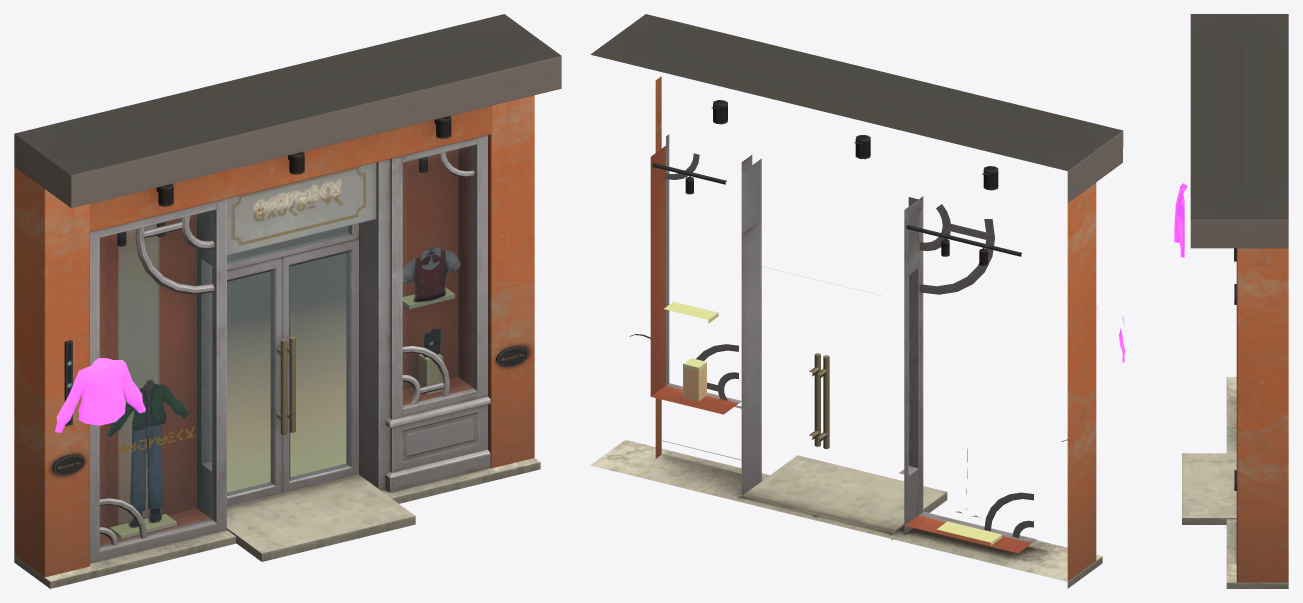
Rendered from t1_b_boutique2_d.glb.
3 renders of one model, left to right at view 1: azimuth 30°, elevation 25°; view 2: azimuth 150°, elevation 25°; view 3: azimuth 270°, elevation 25°, orthographic. The views are drawn at different scales.
Visible parts, largest first — view 1: nomerge_t1_b_boutique2_d_mesh; view 2: nomerge_t1_b_boutique2_d_mesh; view 3: nomerge_t1_b_boutique2_d_mesh.
Boxes of the visible parts, bbox=[...] form: nomerge_t1_b_boutique2_d_mesh: bbox=[14, 14, 561, 588]; nomerge_t1_b_boutique2_d_mesh: bbox=[590, 14, 1125, 588]; nomerge_t1_b_boutique2_d_mesh: bbox=[1174, 14, 1288, 588].
Bounding box in the file's own units: 5.72 × 4.6 × 1.29.
4 materials, 3 textured.
